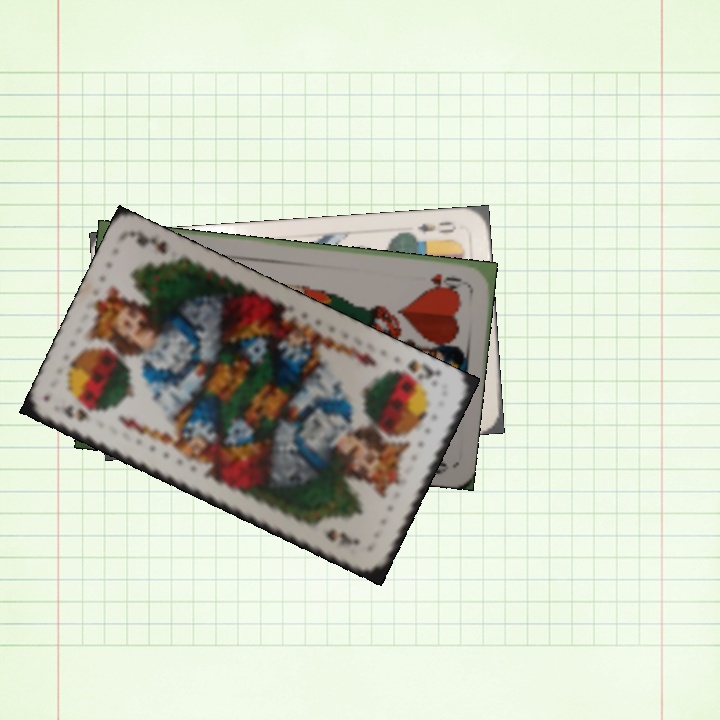EO: (405, 217, 459, 244)
HO: (424, 269, 464, 292)
SK: (389, 355, 443, 386), (59, 401, 93, 424)
